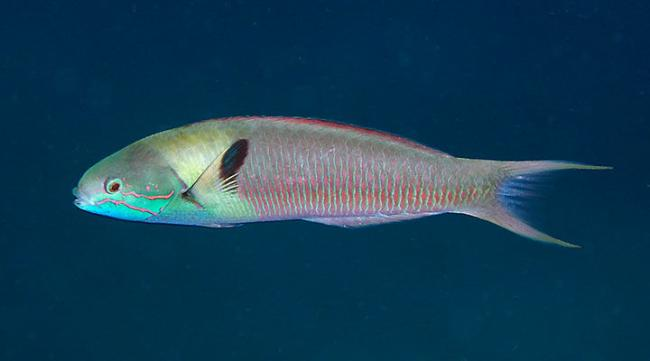fish: (72, 114, 617, 249)
